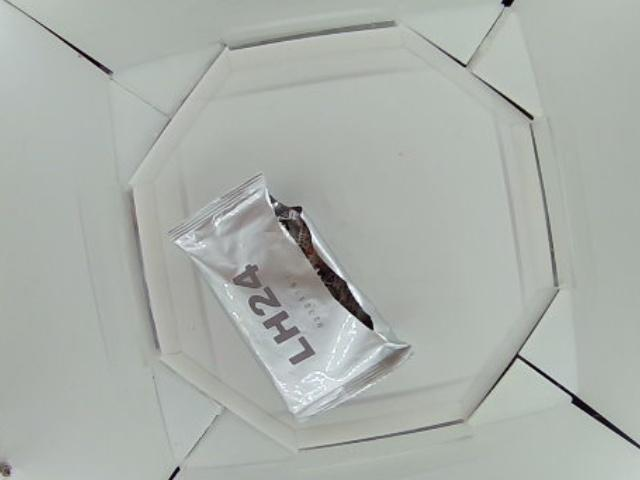Medicine: (171, 170, 412, 417)
